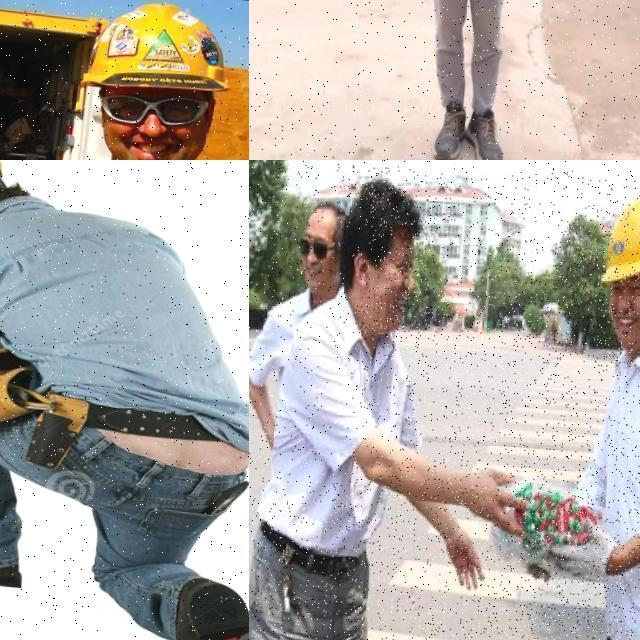boots: (162, 572, 249, 640), (459, 109, 509, 160), (432, 95, 466, 160), (0, 521, 27, 590)
helmet: (69, 0, 245, 107), (598, 191, 640, 287)
